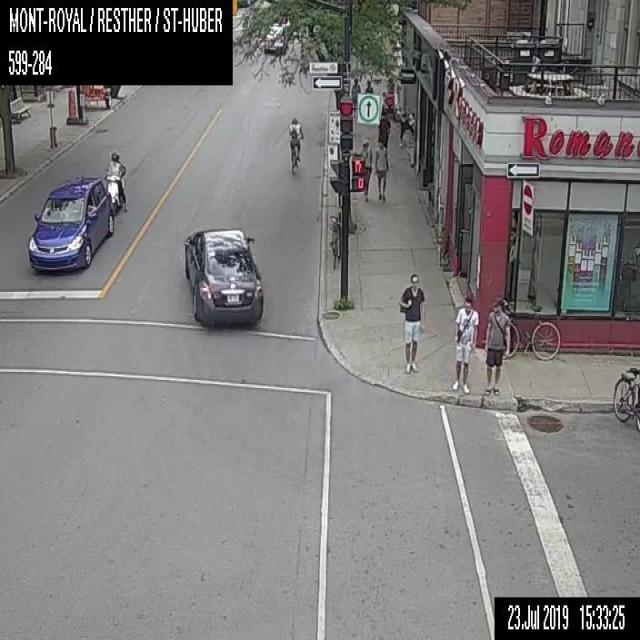construction: (65, 89, 77, 124)
cyclist: (287, 116, 303, 174)
pedestrian: (398, 272, 425, 375), (485, 296, 510, 399), (452, 296, 477, 393), (374, 139, 388, 201), (361, 139, 371, 203), (398, 108, 414, 146), (378, 111, 389, 147), (350, 77, 360, 116), (364, 77, 372, 92)
vehicle: (28, 178, 114, 274), (183, 227, 263, 327), (106, 152, 126, 210), (263, 26, 287, 53)
